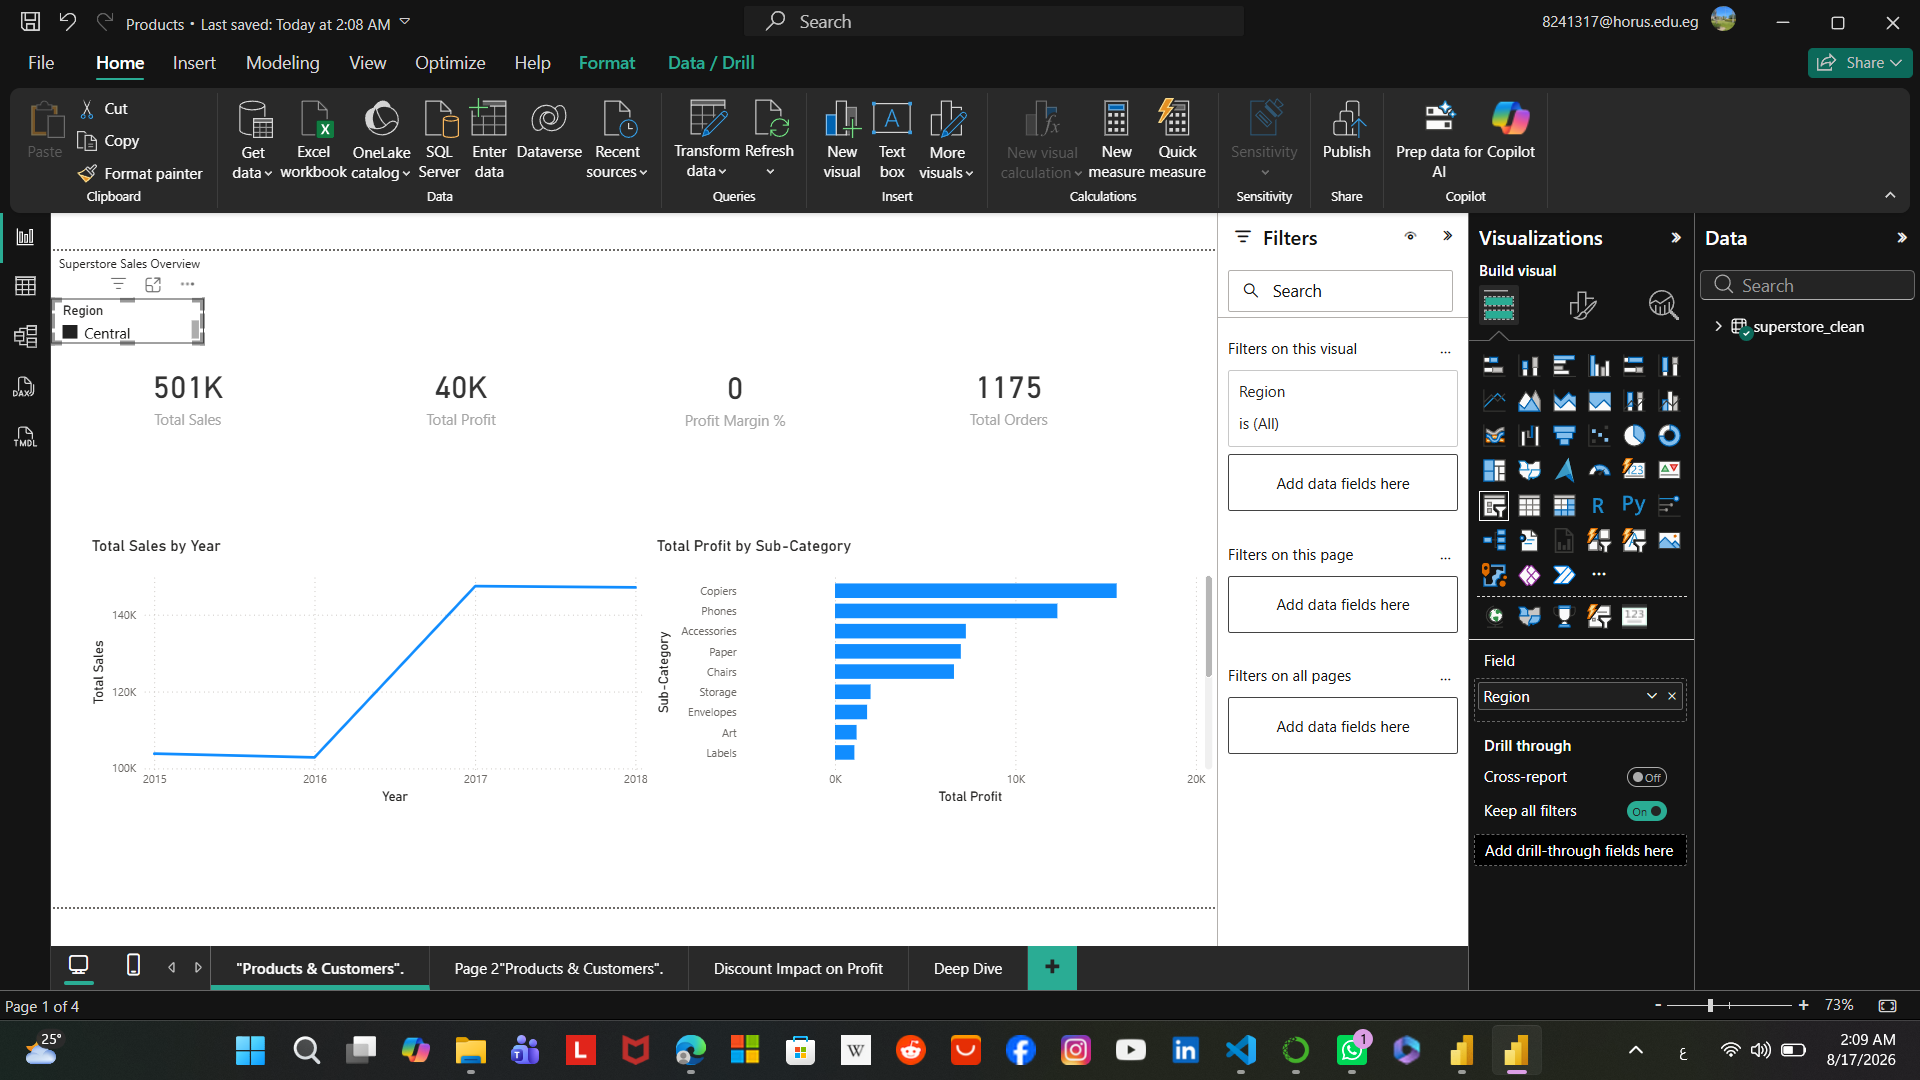

The page's visual inventory and layout, read from the dashboard file:
{"tool":"powerbi","page":{"name":"\"Products & Customers\".","canvas":[1280,720],"ordinal":0},"visuals":[{"type":"advanceCardE03760C5AB684758B56AA29F9E6C257B","fields":{"mainMeasure":["superstore_clean.Total Sales"]},"box":[0,101.5,300.5,120],"z":0},{"type":"advanceCardE03760C5AB684758B56AA29F9E6C257B","fields":{"mainMeasure":["superstore_clean.Total Profit"]},"box":[300.5,101.5,300,120],"z":1},{"type":"advanceCardE03760C5AB684758B56AA29F9E6C257B","fields":{"mainMeasure":["superstore_clean.Profit Margin %"]},"box":[601,102.9,300,120],"z":2},{"type":"clusteredBarChart","fields":{"Category":["superstore_clean.Sub-Category"],"Y":["superstore_clean.Total Profit"]},"box":[660,312.9,620,299],"z":3},{"type":"advanceCardE03760C5AB684758B56AA29F9E6C257B","fields":{"mainMeasure":["superstore_clean.Total Orders"]},"box":[901.5,101.5,300,120],"z":4},{"type":"lineChart","fields":{"Category":["superstore_clean.Order Date.Variation.Date Hierarchy.Year","superstore_clean.Order Date.Variation.Date Hierarchy.Quarter","superstore_clean.Order Date.Variation.Date Hierarchy.Month","superstore_clean.Order Date.Variation.Date Hierarchy.Day"],"Y":["superstore_clean.Total Sales"]},"box":[39.8,312.9,620,299],"z":5},{"type":"slicer","fields":{"Values":["superstore_clean.Region"]},"box":[0,52.1,167.4,49.4],"z":6},{"type":"textbox","box":[0,0,278.6,35.7],"z":7}]}

Visuals, with their boxes on the page's 1280x720 design canvas (x1, y1, x2, y2). These are canvas units, not pixel positions in the 1920x1080 screenshot, which may show the page scaled, cropped or inside an application window:
advanceCardE03760C5AB684758B56AA29F9E6C257B - superstore_clean.Total Sales: <region>0, 102, 300, 222</region>
advanceCardE03760C5AB684758B56AA29F9E6C257B - superstore_clean.Total Profit: <region>300, 102, 600, 222</region>
advanceCardE03760C5AB684758B56AA29F9E6C257B - superstore_clean.Profit Margin %: <region>601, 103, 901, 223</region>
clusteredBarChart - superstore_clean.Sub-Category x superstore_clean.Total Profit: <region>660, 313, 1280, 612</region>
advanceCardE03760C5AB684758B56AA29F9E6C257B - superstore_clean.Total Orders: <region>902, 102, 1202, 222</region>
lineChart - superstore_clean.Order Date.Variation.Date Hierarchy.Year x superstore_clean.Order Date.Variation.Date Hierarchy.Quarter: <region>40, 313, 660, 612</region>
slicer - superstore_clean.Region: <region>0, 52, 167, 102</region>
textbox: <region>0, 0, 279, 36</region>
